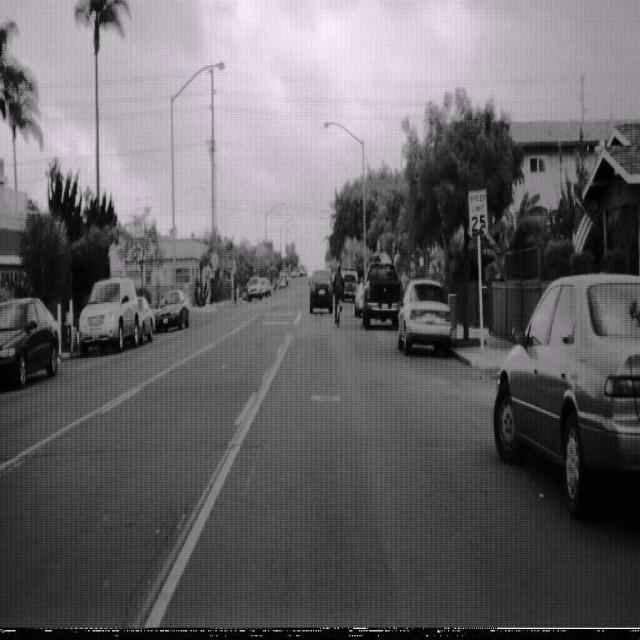speedLimit25: (467, 186, 489, 239)
